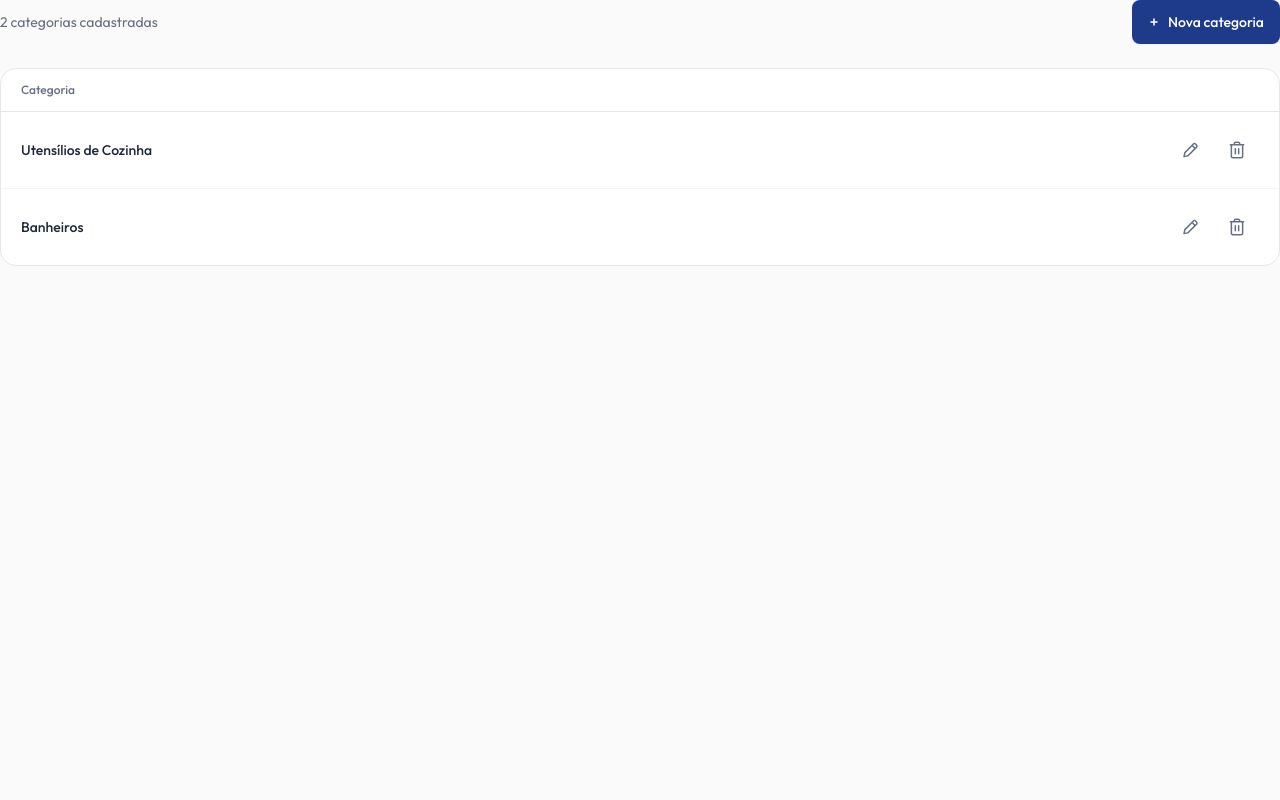
Test: CategoryAdminPanel › drops a category that was already deleted elsewhere
Click the button named "Apagar Banheiros". click: click(1237, 227)
box: x1=1215 y1=205 x2=1259 y2=249
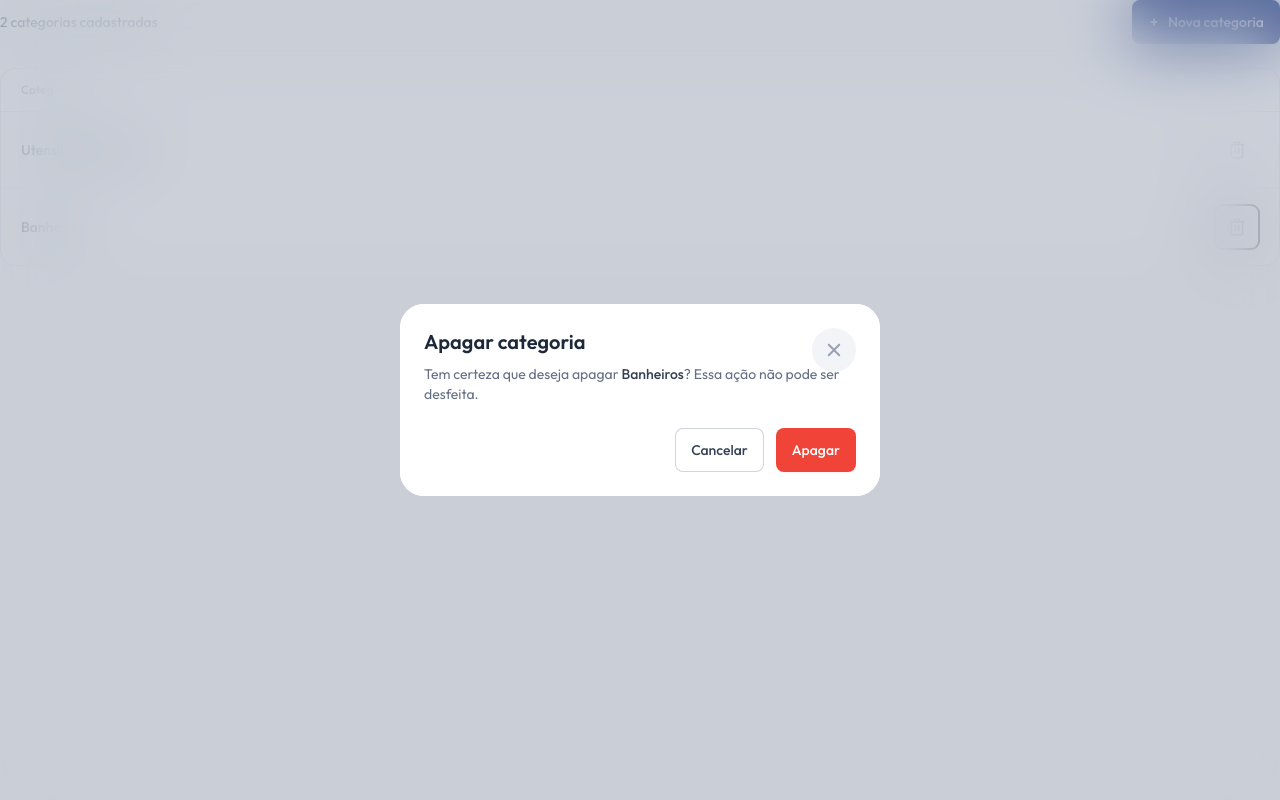
Click the button "Apagar". click: click(816, 450)
box: x1=776 y1=428 x2=856 y2=472
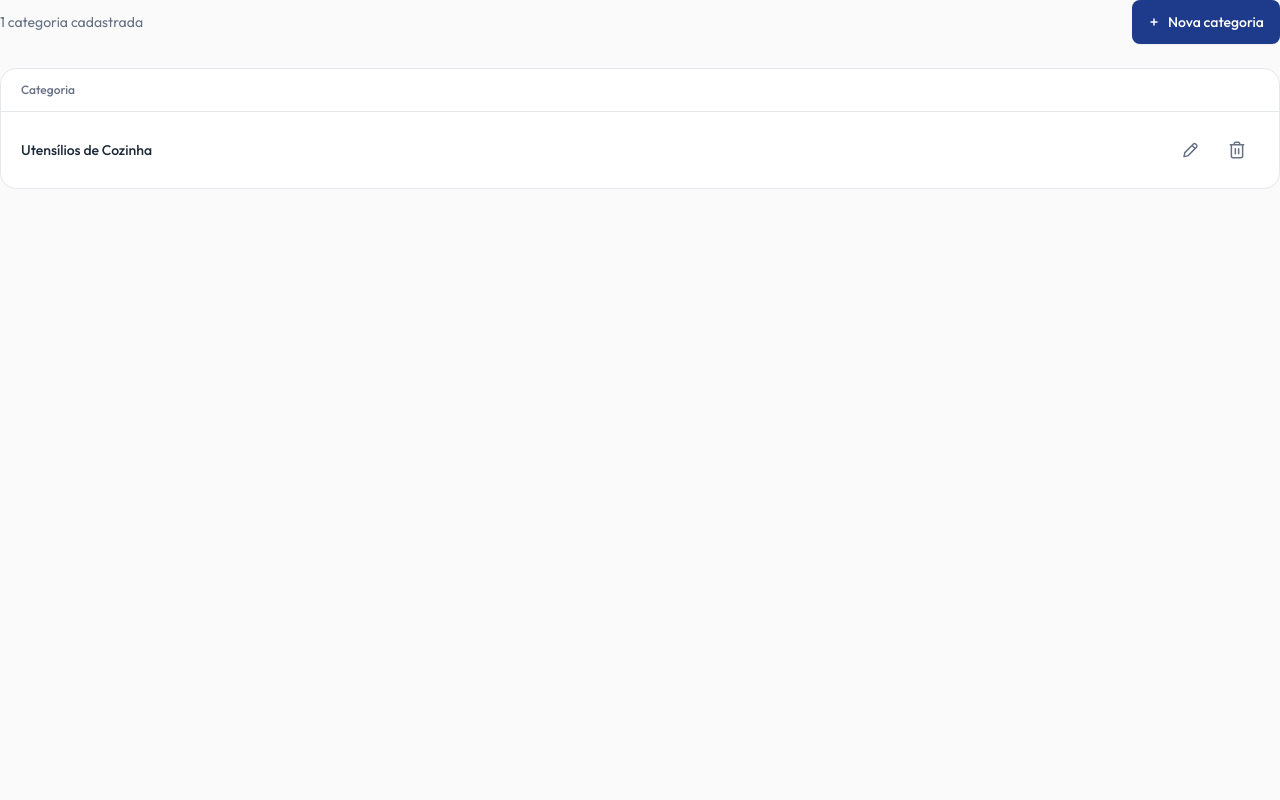
Result: the text "1 categoria cadastrada" is shown at x1=0 y1=12 x2=143 y2=32
